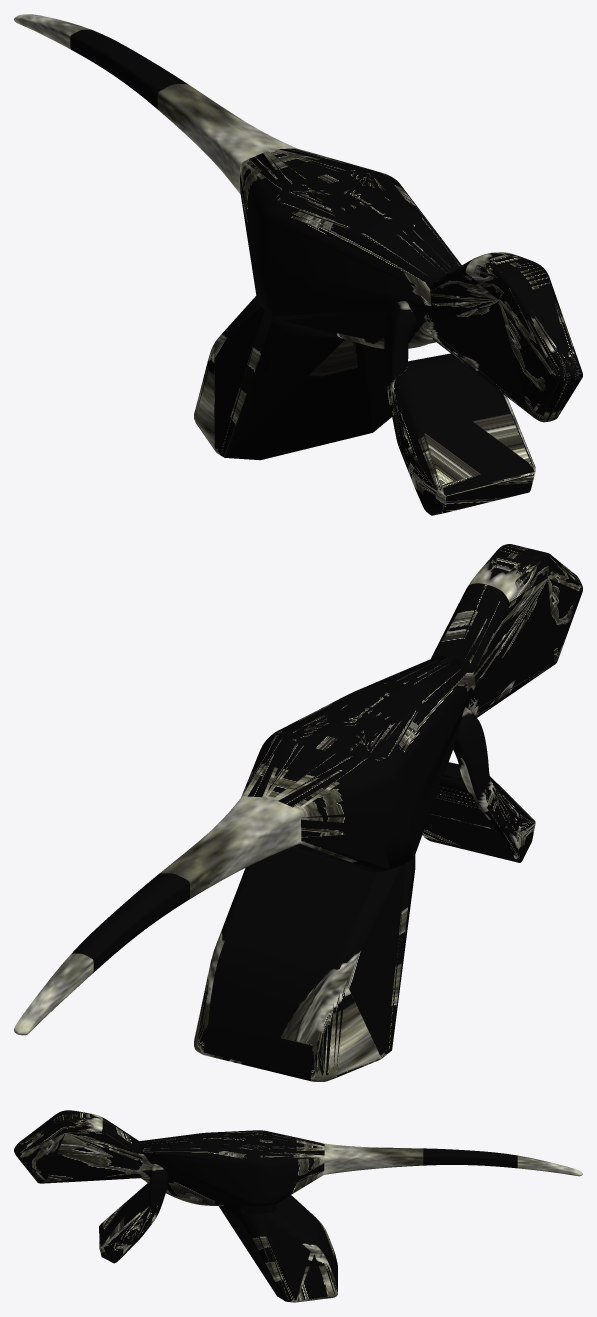
The model's file is RaptorColliders.fbx.
3 renders of one model, top to bottom at view 1: azimuth 30°, elevation 25°; view 2: azimuth 150°, elevation 25°; view 3: azimuth 270°, elevation 25°, orthographic. The views are drawn at different scales.
Visible parts, largest first — view 1: A.002, A.004, A.003, A.005, A.001; view 2: A.004, A.002, A.001, A.003, A.005; view 3: A.002, A.004, A.003, A.001, A.005.
Part boxes in pixels (x1,y1,x2,y2): A.002: (240, 148, 461, 348); A.004: (194, 296, 391, 460); A.003: (426, 252, 582, 422); A.005: (386, 353, 535, 515); A.001: (14, 14, 582, 511); A.004: (194, 846, 415, 1081); A.002: (241, 656, 475, 871); A.001: (14, 654, 521, 1035); A.003: (431, 544, 582, 717); A.005: (422, 762, 535, 862); A.002: (139, 1130, 324, 1206); A.004: (218, 1195, 337, 1302); A.003: (14, 1110, 143, 1183); A.001: (15, 1143, 582, 1262); A.005: (99, 1183, 160, 1263).
Size of the model in its own units: 83.91 by 158 by 480.
